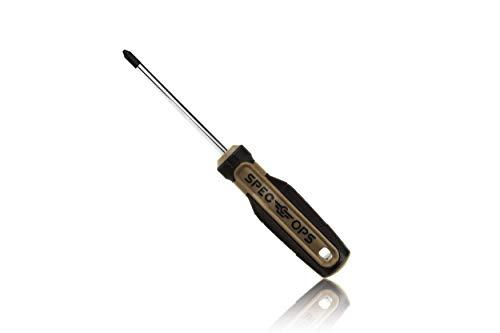Screwdriver: (105, 37, 364, 293)
